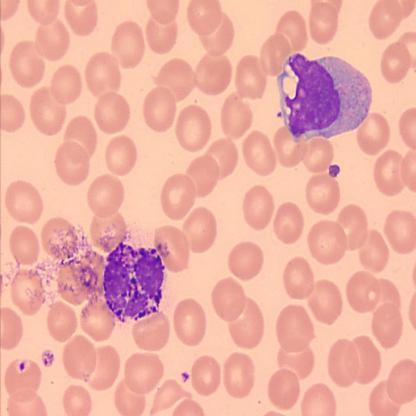Basophil: (276, 51, 372, 146), (101, 239, 166, 320)
